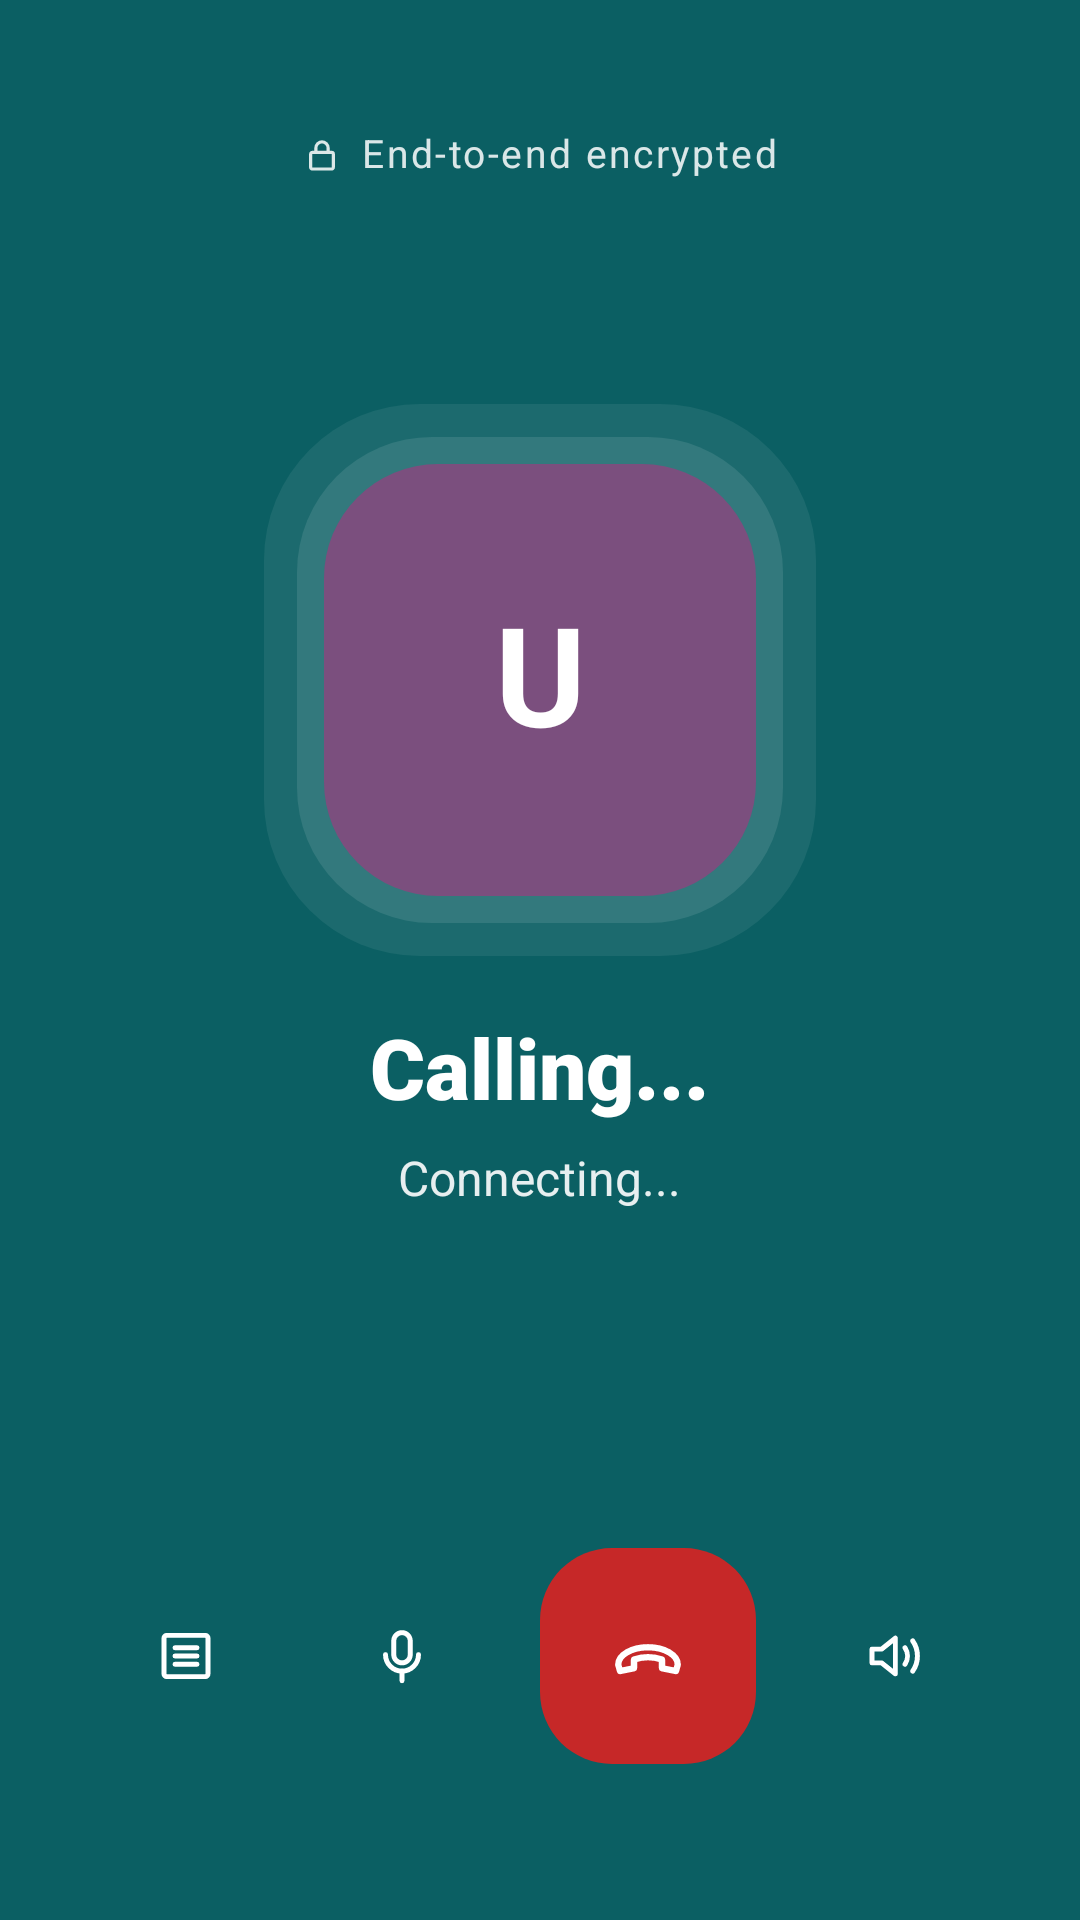

Icon click points for this 1080px×1920px phone screenshot, format [x,y]:
End call: [648,1656]
Mute: [402,1656]
Speaker: [894,1656]
